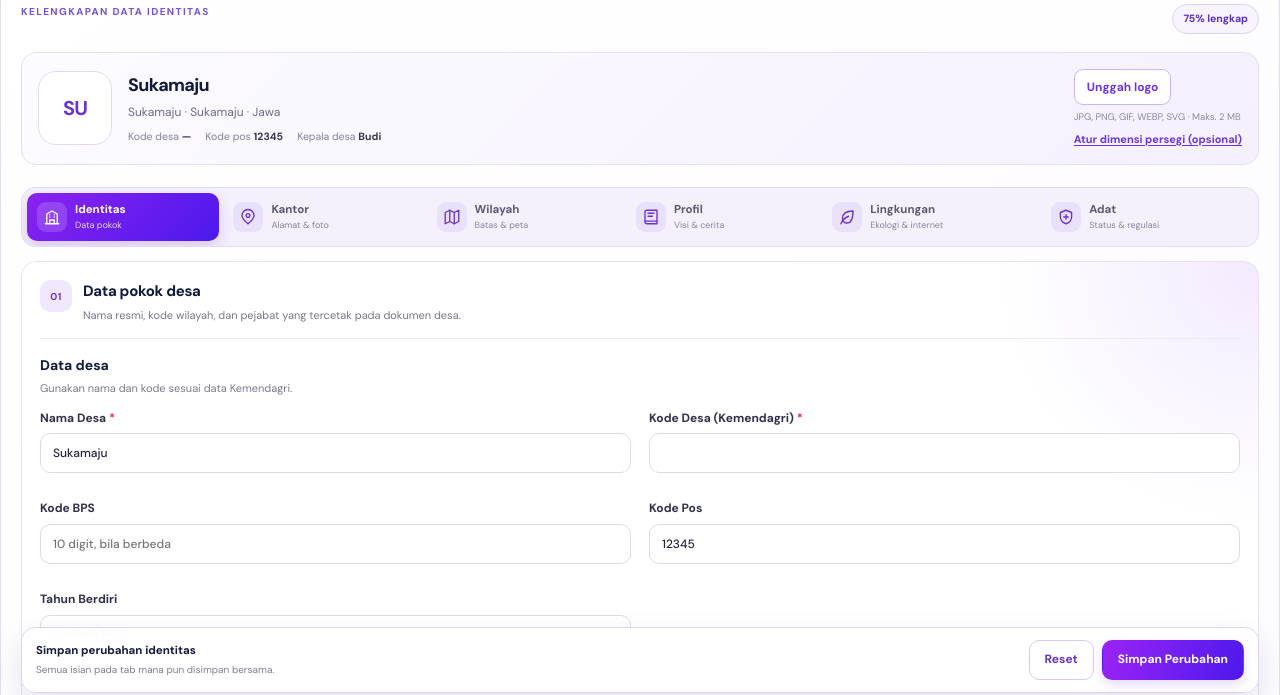
kelompok kontak identitas desa › membedakan kontak kantor dari kontak pemberitahuan
Click the tab "Kantor Alamat & foto": click(323, 217) [223,193,423,241]
(page scrolled)
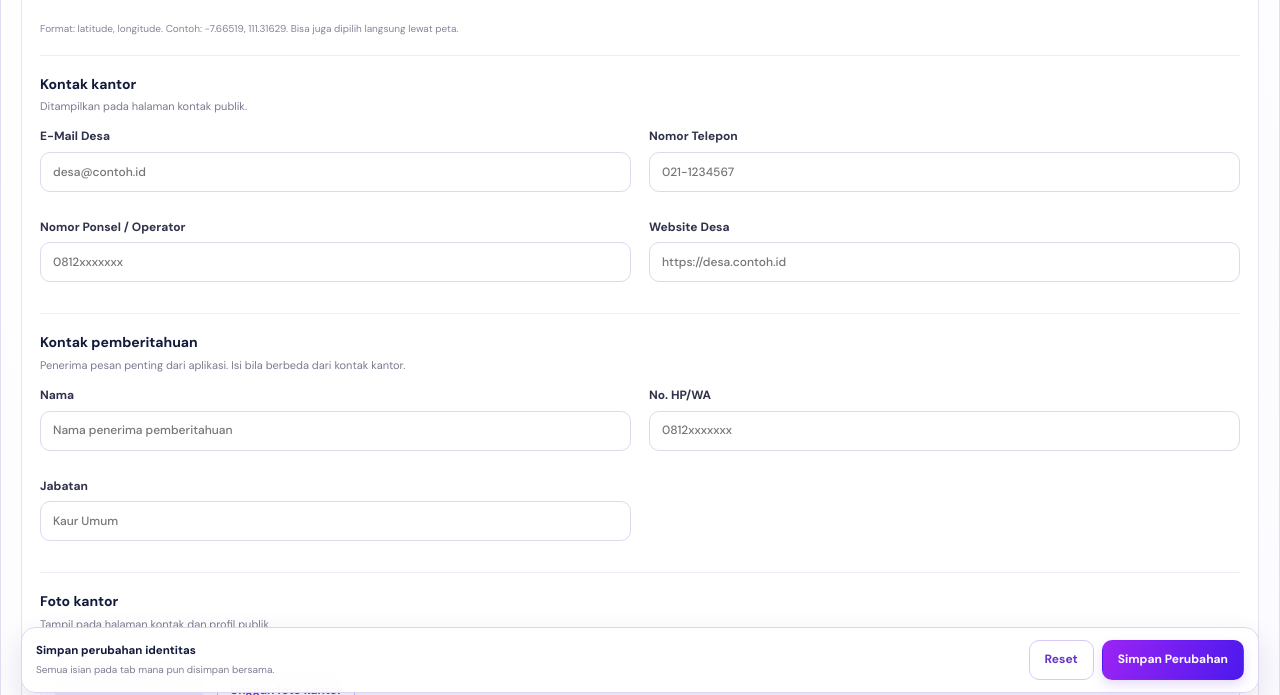
Check: the heading "Kontak kantor" is shown, box [40,74,136,92]
Check: the heading "Kontak pemberitahuan" is shown, box [40,334,198,352]
